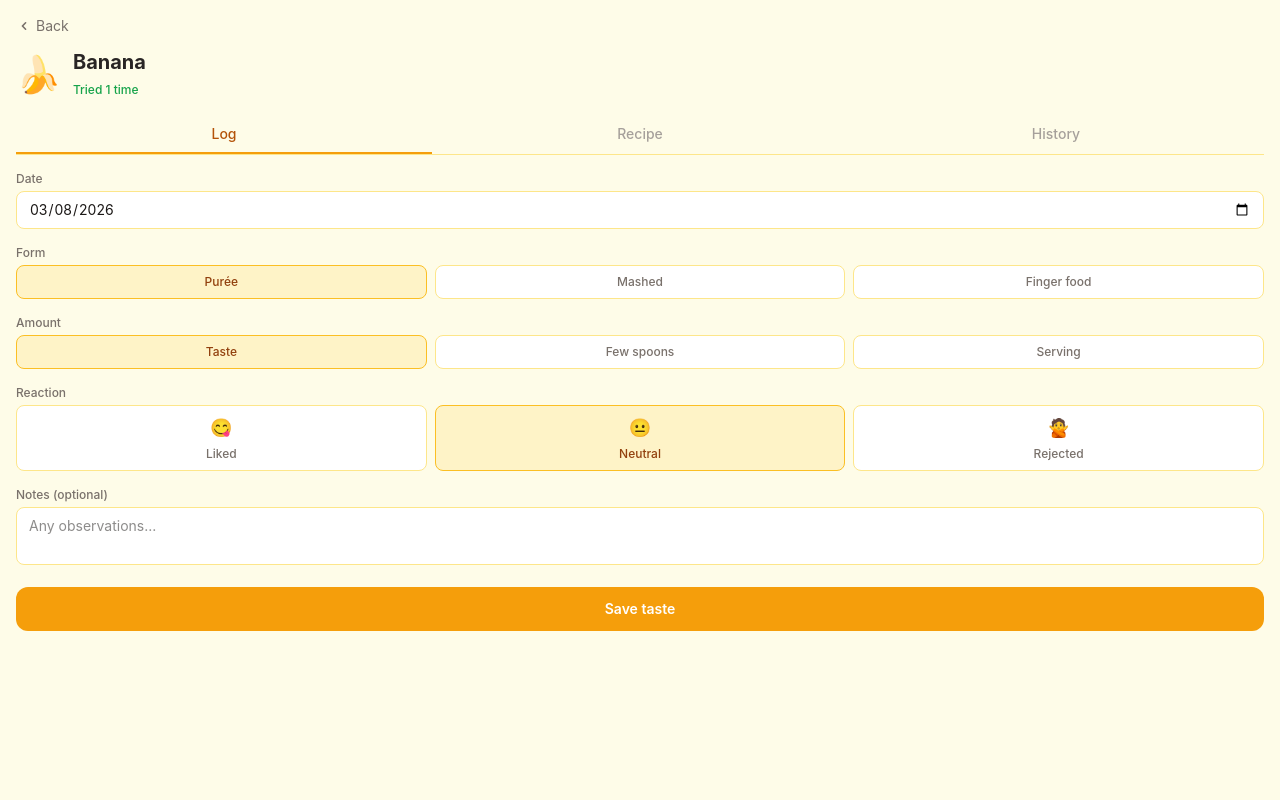
Test case: deleting a log via the UI › confirming delete removes the log
Click the button "History" at (1056, 135), box top-left (848, 116), bottom-right (1264, 154)
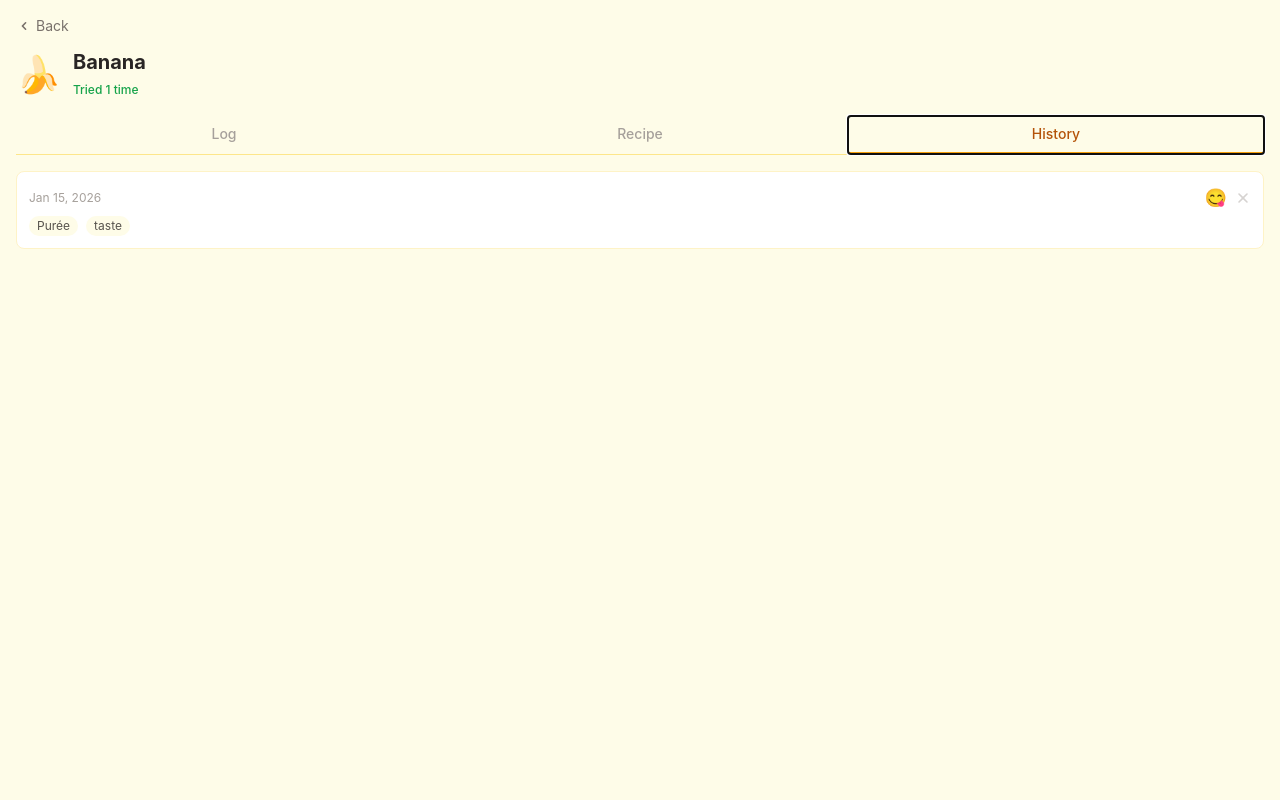
Click the button named "Delete log" at (1243, 198), box top-left (1235, 190), bottom-right (1251, 206)
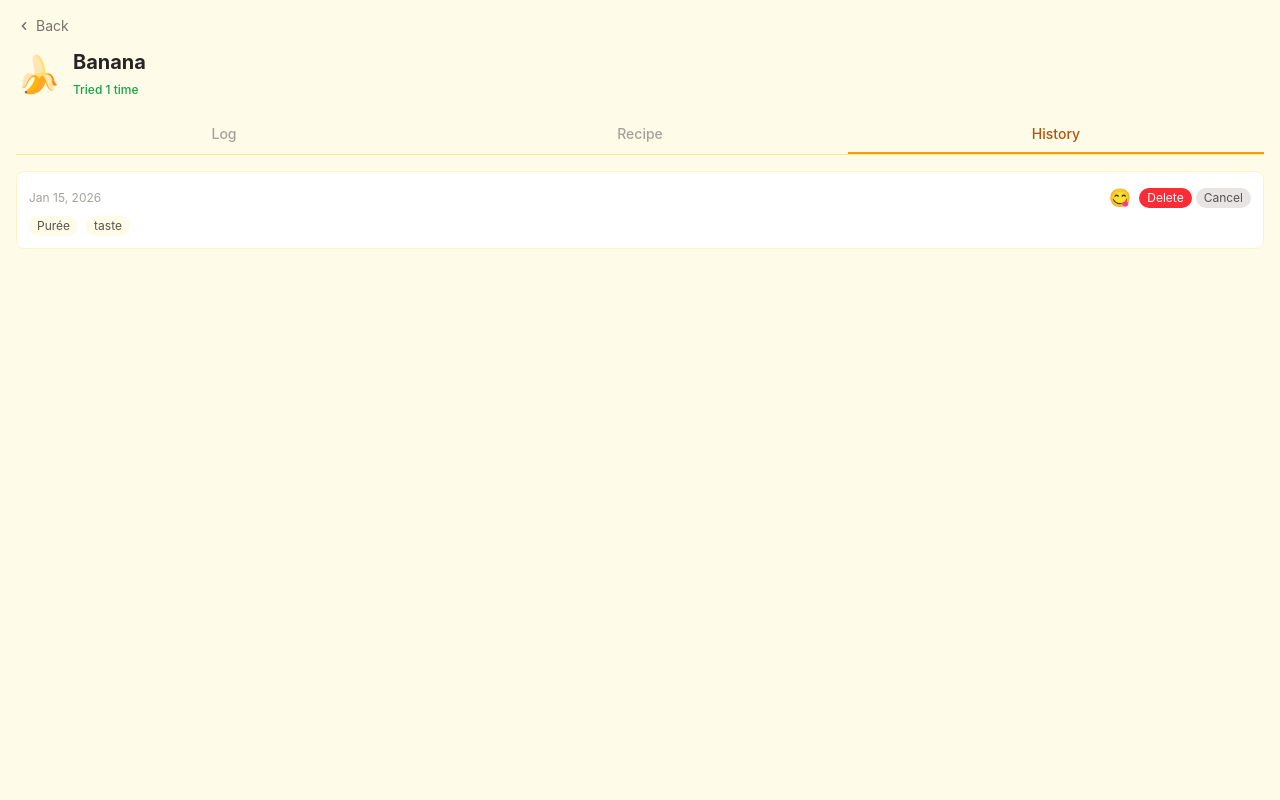
Click the button "Delete" at (1166, 198), box top-left (1139, 188), bottom-right (1192, 208)
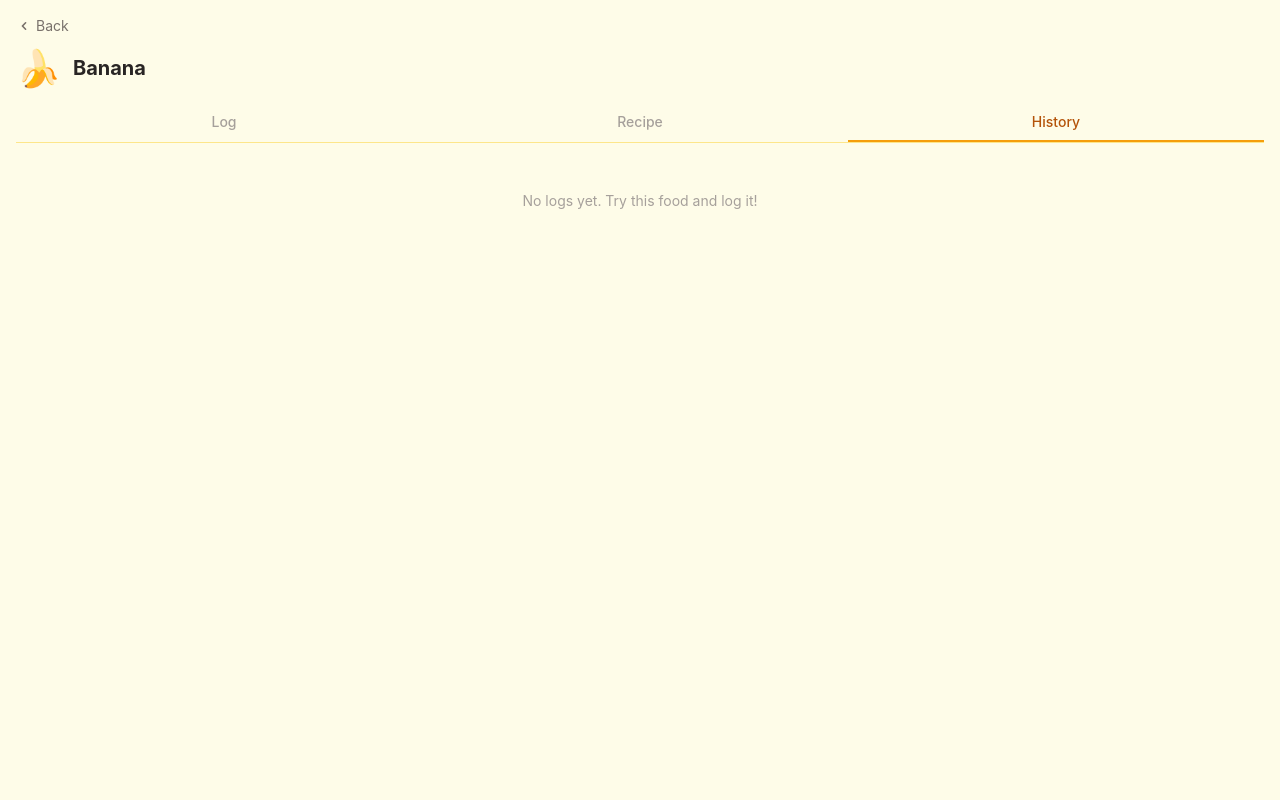
Expected: the text "No logs yet. Try this food and log it!" is shown, top-left (522, 192), bottom-right (758, 209)
